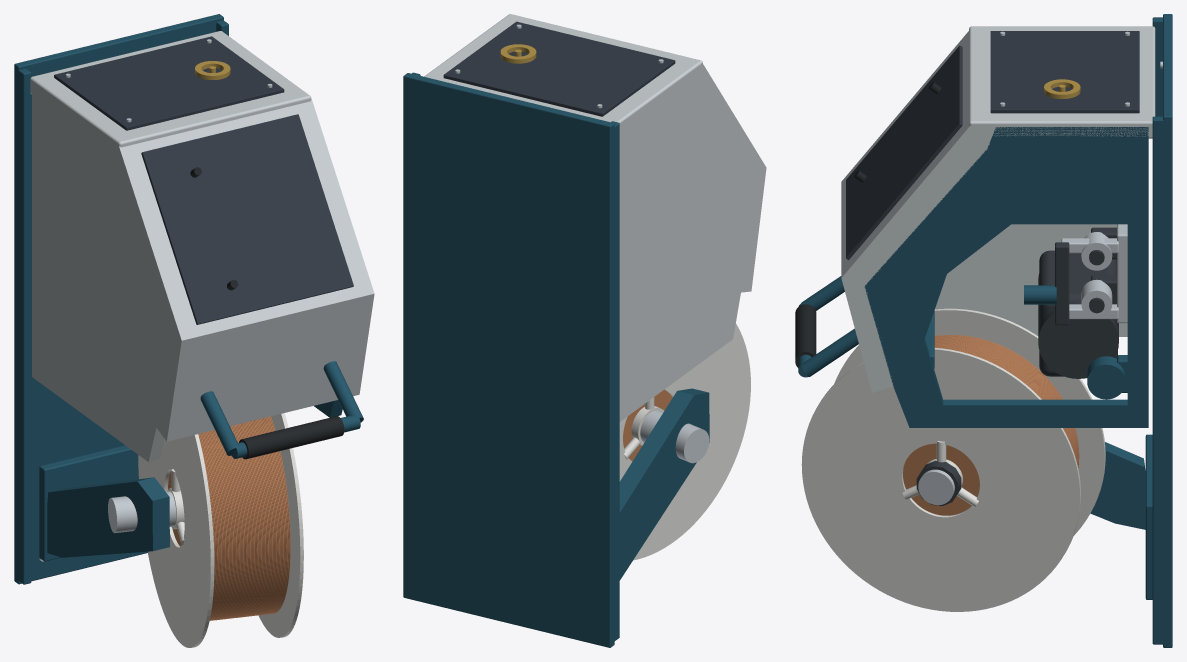
3 views of the same model, side by side, from view 1: azimuth 30°, elevation 25°; view 2: azimuth 150°, elevation 25°; view 3: azimuth 270°, elevation 25° (orthographic). The views are drawn at different scales.
Parts seen in each view (by area): view 1: opposite_side_cover, upper_cover, sloping_control_panel, base_tray, front_service_panel, spool_flange_-0.0515, wound_wire_body, spindle_pedestal, base_edge_-0.122, front_lower_surround, spindle_foot, spool_flange_0.0475 (+5 smaller); view 2: base_tray, opposite_side_cover, front_service_panel, spool_flange_-0.0515, spindle_pedestal, front_lower_surround, upper_cover, base_edge_-0.122, spindle, wound_wire_body, torch_brass_ring; view 3: spool_flange_0.0475, side_arch, front_service_panel, upper_cover, sloping_control_panel, opposite_side_cover, front_lower_surround, base_edge_0.122, spool_flange_-0.0515, base_tray, feed_motor_end, spindle_pedestal (+16 smaller).
Boxes of the visible parts, x1=… form: opposite_side_cover: x1=32, y1=84, x2=170, y2=462; upper_cover: x1=106, y1=99, x2=374, y2=441; sloping_control_panel: x1=141, y1=114, x2=353, y2=324; base_tray: x1=14, y1=14, x2=223, y2=584; front_service_panel: x1=54, y1=36, x2=284, y2=130; spool_flange_-0.0515: x1=138, y1=434, x2=214, y2=647; wound_wire_body: x1=168, y1=417, x2=289, y2=614; spindle_pedestal: x1=47, y1=477, x2=169, y2=557; base_edge_-0.122: x1=17, y1=68, x2=31, y2=584; front_lower_surround: x1=30, y1=31, x2=311, y2=155; spindle_foot: x1=39, y1=445, x2=138, y2=561; spool_flange_0.0475: x1=258, y1=413, x2=303, y2=637; base_tray: x1=403, y1=73, x2=614, y2=647; opposite_side_cover: x1=619, y1=75, x2=754, y2=421; front_service_panel: x1=443, y1=21, x2=675, y2=116; spool_flange_-0.0515: x1=619, y1=323, x2=750, y2=560; spindle_pedestal: x1=619, y1=388, x2=709, y2=580; front_lower_surround: x1=424, y1=14, x2=702, y2=135; upper_cover: x1=692, y1=64, x2=766, y2=292; base_edge_-0.122: x1=611, y1=121, x2=619, y2=641; spindle: x1=640, y1=410, x2=709, y2=463; wound_wire_body: x1=623, y1=389, x2=672, y2=461; torch_brass_ring: x1=500, y1=44, x2=536, y2=63; spool_flange_0.0475: x1=801, y1=348, x2=1080, y2=611; side_arch: x1=864, y1=127, x2=1148, y2=427; front_service_panel: x1=990, y1=31, x2=1139, y2=113; upper_cover: x1=841, y1=31, x2=994, y2=392; sloping_control_panel: x1=846, y1=45, x2=962, y2=259; opposite_side_cover: x1=935, y1=224, x2=1127, y2=336; front_lower_surround: x1=969, y1=26, x2=1155, y2=138; base_edge_0.122: x1=1152, y1=116, x2=1166, y2=644; spool_flange_-0.0515: x1=834, y1=308, x2=1105, y2=535; base_tray: x1=1163, y1=14, x2=1172, y2=647; feed_motor_end: x1=1038, y1=273, x2=1118, y2=378; spindle_pedestal: x1=1090, y1=442, x2=1145, y2=529.
Size of the model in its own units: 0.254 by 0.611 by 0.393.
